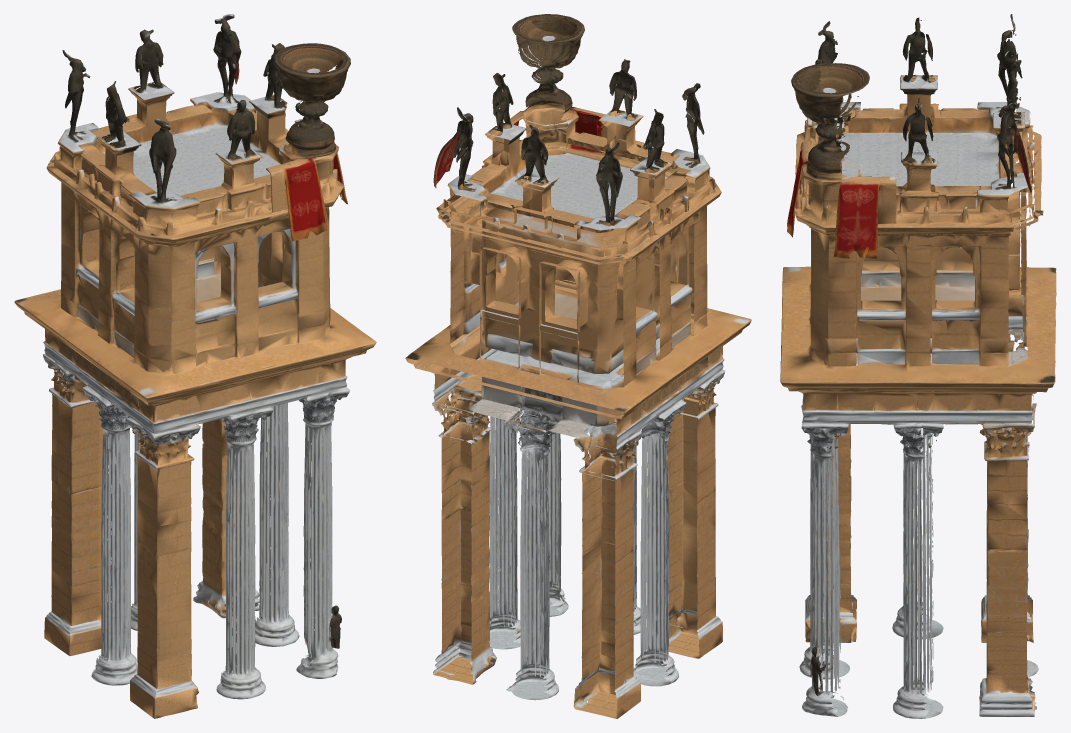
File: forum_tower.glb
The picture shows the model from 3 angles, left to right: view 1: azimuth 30°, elevation 25°; view 2: azimuth 150°, elevation 25°; view 3: azimuth 270°, elevation 25°; orthographic projection. The views are drawn at different scales.
Size of the model in its own units: 0.7564 by 1.9 by 0.7576.
Materials: 1 (1 with a texture image).
